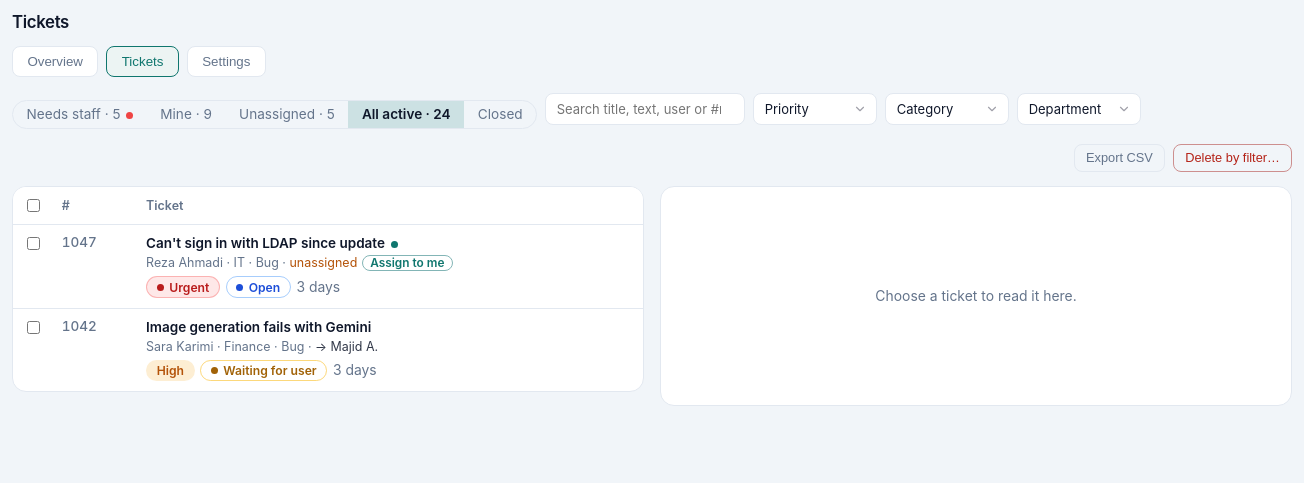
Test: the queue › marks tickets that need staff and offers Assign to me on unassigned rows
Expected: the picture with class "tickets-unread-dot" is shown, [391, 241, 398, 248]
Expected: the row that starts with "Image generation fails with Gemini" shows "→ Majid A.", [13, 308, 643, 391]
Click the button "Assign to me" at x=407, y=263, box [362, 255, 453, 271]
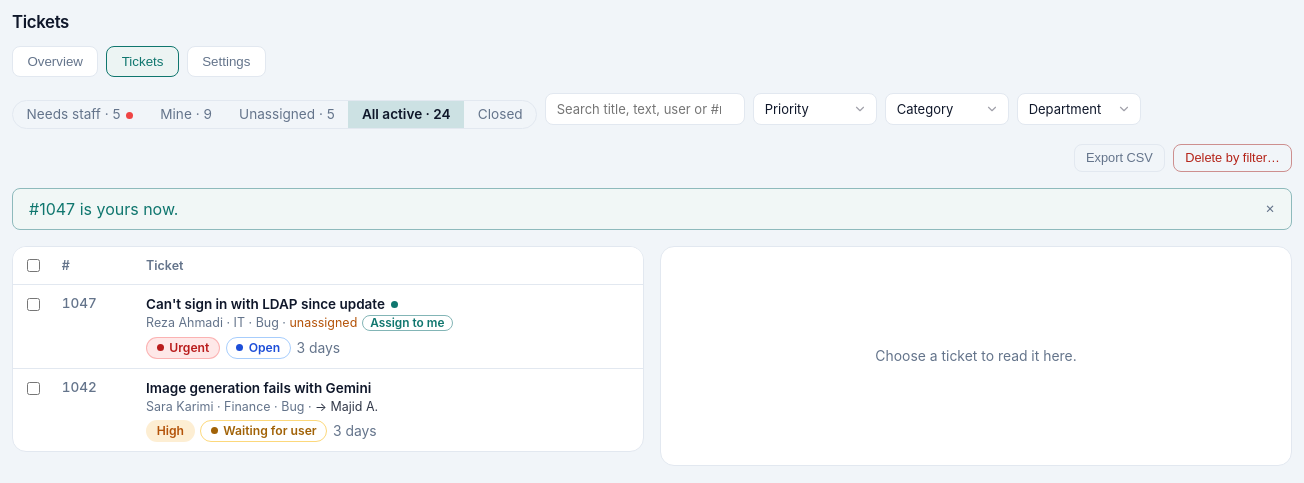
Expected: the text "#1047 is yours now." is shown, [29, 199, 178, 219]
